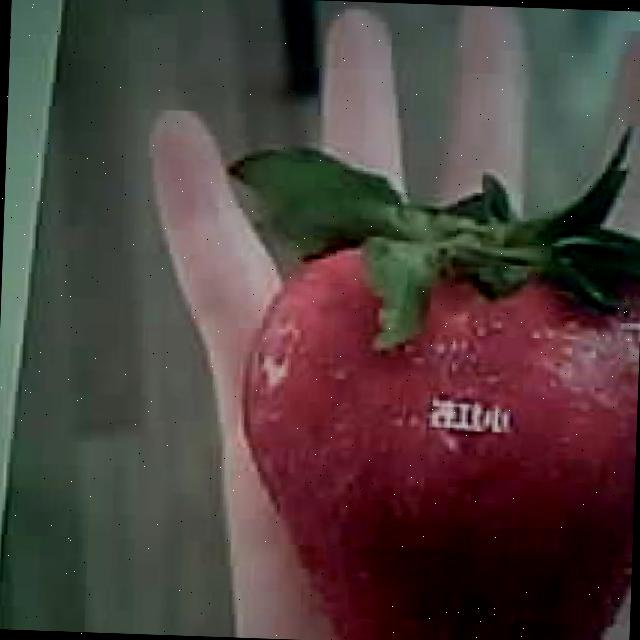ripe: (233, 217, 640, 640)
